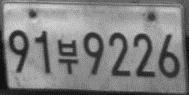1: (34, 29, 51, 74)
2: (131, 32, 156, 78), (108, 32, 131, 77)
6: (157, 32, 180, 79)
9: (7, 29, 30, 74), (82, 32, 104, 76)
부: (56, 38, 79, 75)
